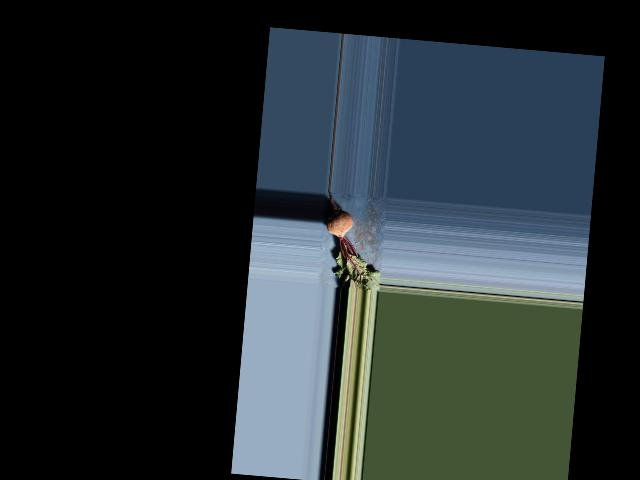beet: (320, 191, 387, 292)
